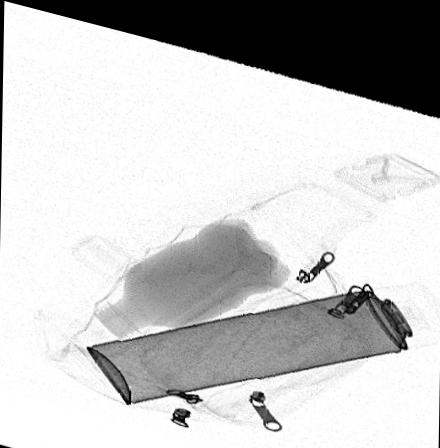Sprayer: (82, 261, 439, 398)
